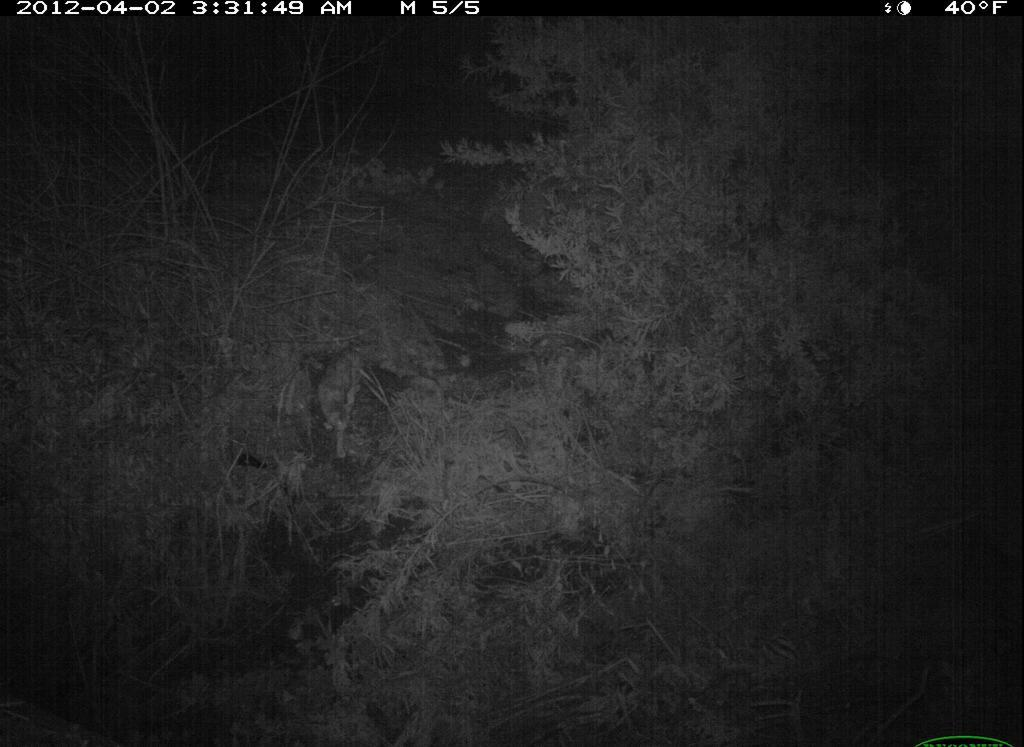cat: (314, 326, 365, 469)
